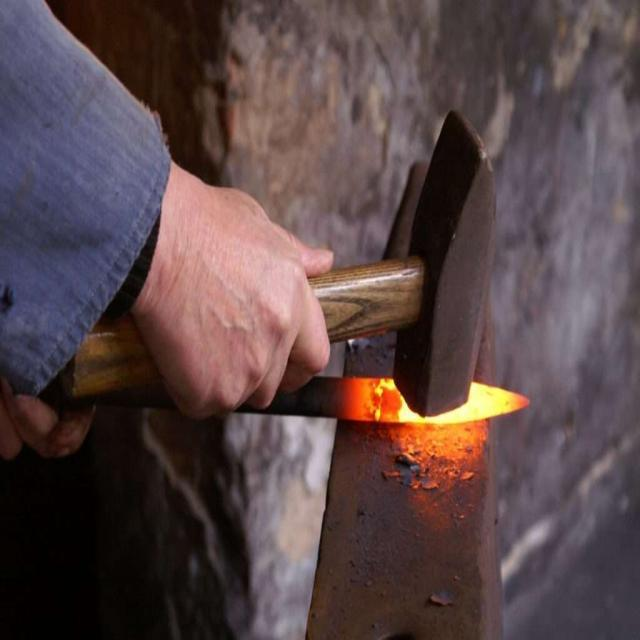hammer: (58, 99, 514, 422)
